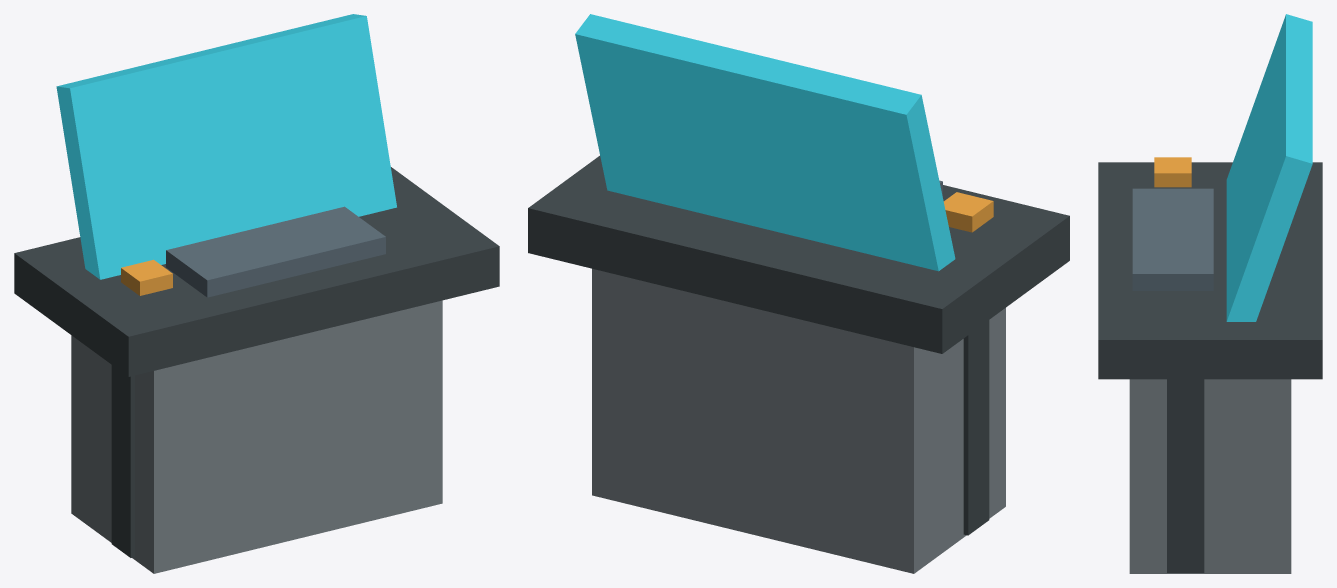
Rendered from gravifire_science_console.glb.
The picture shows the model from 3 angles, left to right: view 1: azimuth 30°, elevation 25°; view 2: azimuth 150°, elevation 25°; view 3: azimuth 270°, elevation 25°; orthographic projection. The views are drawn at different scales.
Visible parts, largest first — view 1: console_base, display, console_top, keyboard, leg_l, status_key; view 2: console_base, display, console_top, leg_l, status_key; view 3: console_top, console_base, display, keyboard, leg_r, status_key.
Boxes of the visible parts, <box> form: console_base: <box>71,300,442,573</box>; display: <box>56,14,396,279</box>; console_top: <box>14,167,499,376</box>; keyboard: <box>166,206,385,297</box>; leg_l: <box>111,365,134,557</box>; status_key: <box>121,259,172,295</box>; console_base: <box>592,268,1005,573</box>; display: <box>575,14,955,271</box>; console_top: <box>528,156,1069,353</box>; leg_l: <box>963,320,989,535</box>; status_key: <box>943,192,993,232</box>; console_top: <box>1098,162,1322,379</box>; console_base: <box>1129,379,1291,573</box>; display: <box>1226,14,1312,321</box>; keyboard: <box>1132,188,1213,290</box>; leg_r: <box>1167,379,1204,572</box>; status_key: <box>1154,157,1191,187</box>.
Size of the model in its own units: 1.35 by 1.49 by 0.72.
